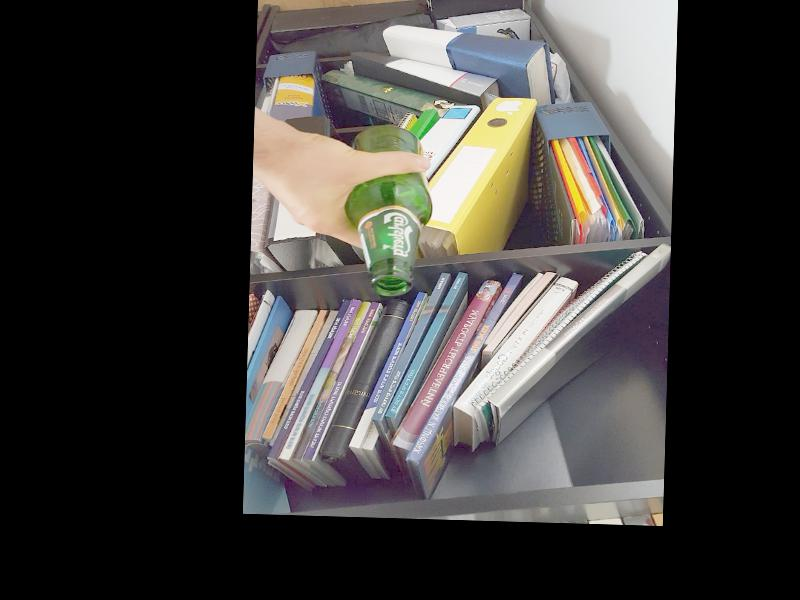Beer: (345, 122, 433, 296)
